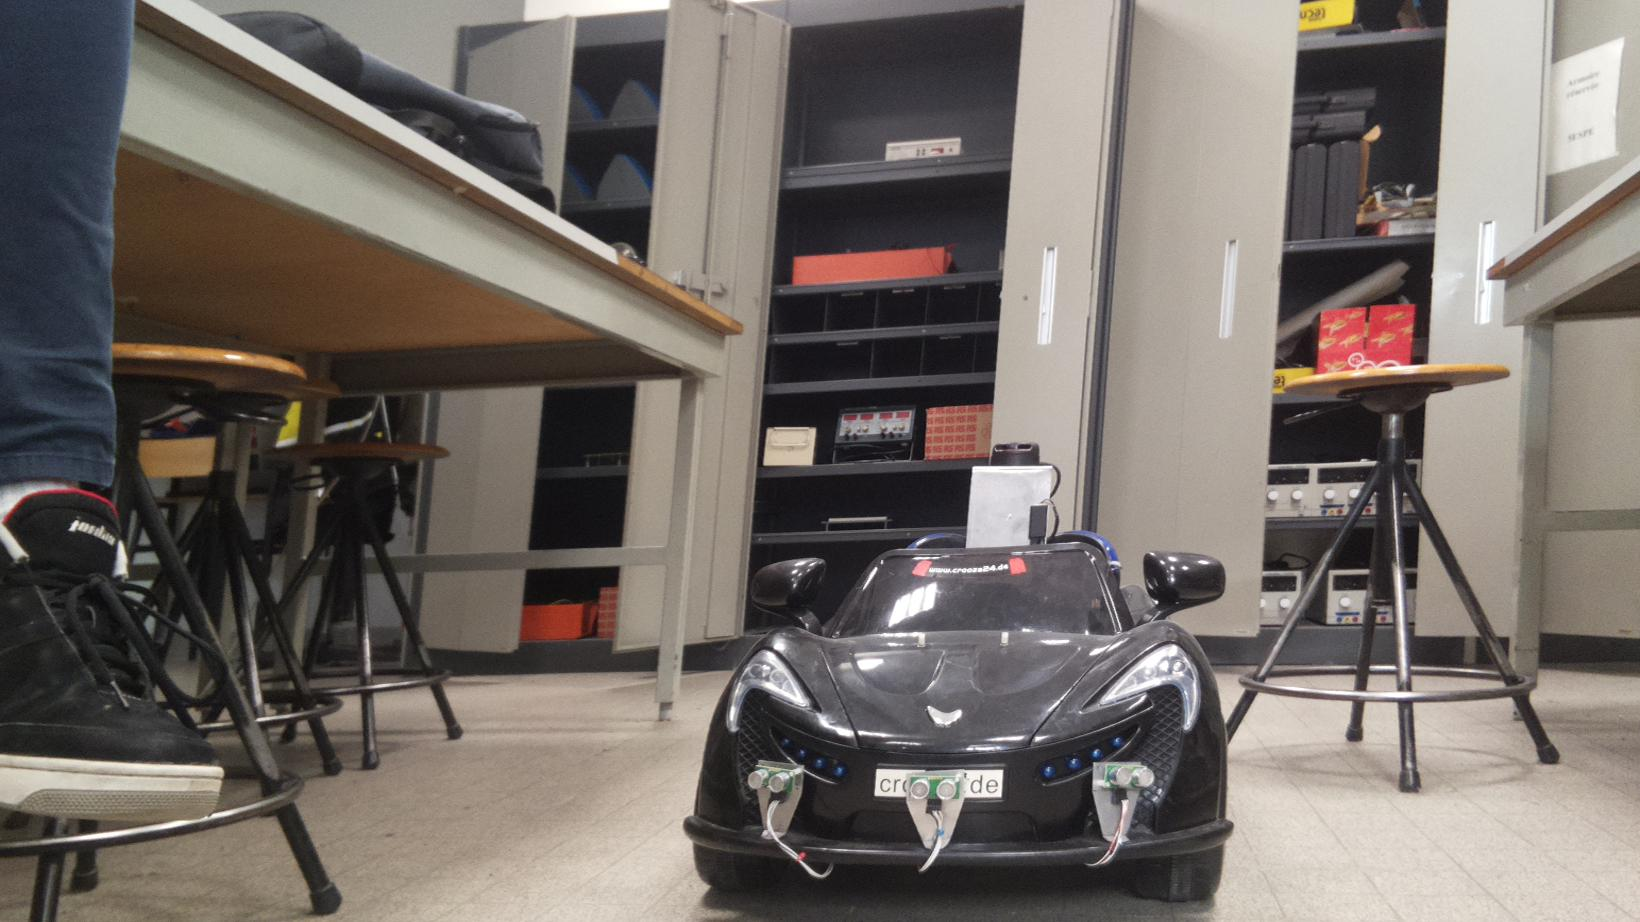big: (690, 441, 1241, 907)
